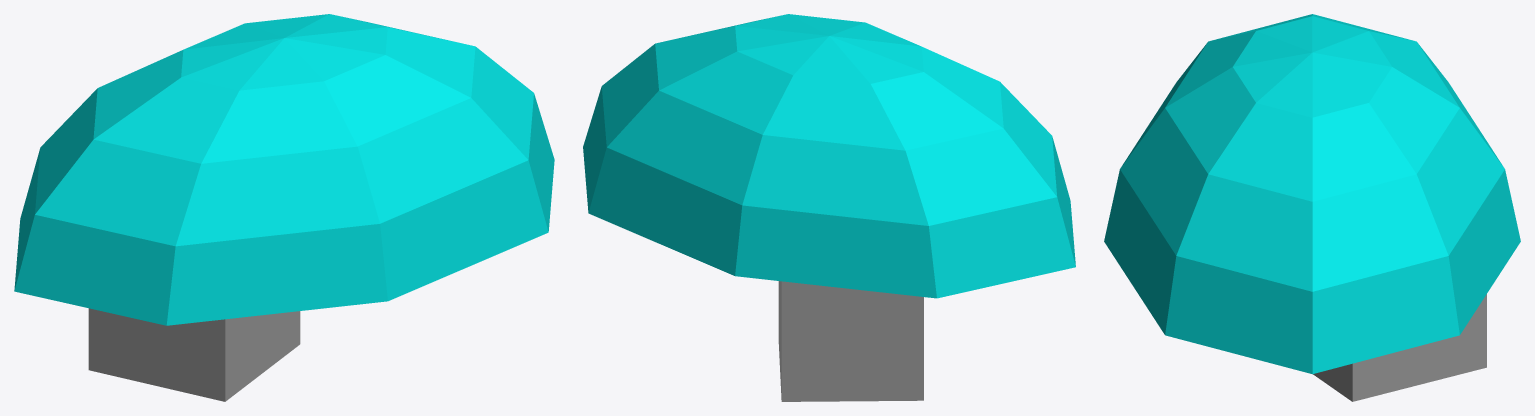
File: Map.fbx
The picture shows the model from 3 angles, left to right: view 1: azimuth 30°, elevation 25°; view 2: azimuth 150°, elevation 25°; view 3: azimuth 270°, elevation 25°; orthographic projection. The views are drawn at different scales.
Visible parts, largest first — view 1: Star, DepthBox; view 2: Star, DepthBox; view 3: Star, DepthBox.
Boxes of the visible parts, x1=… form: Star: x1=14, y1=14, x2=554, y2=325; DepthBox: x1=88, y1=308, x2=300, y2=401; Star: x1=583, y1=14, x2=1075, y2=298; DepthBox: x1=778, y1=281, x2=923, y2=401; Star: x1=1104, y1=14, x2=1520, y2=374; DepthBox: x1=1313, y1=294, x2=1486, y2=401.
Size of the model in its own units: 9079 by 5290 by 6024.
